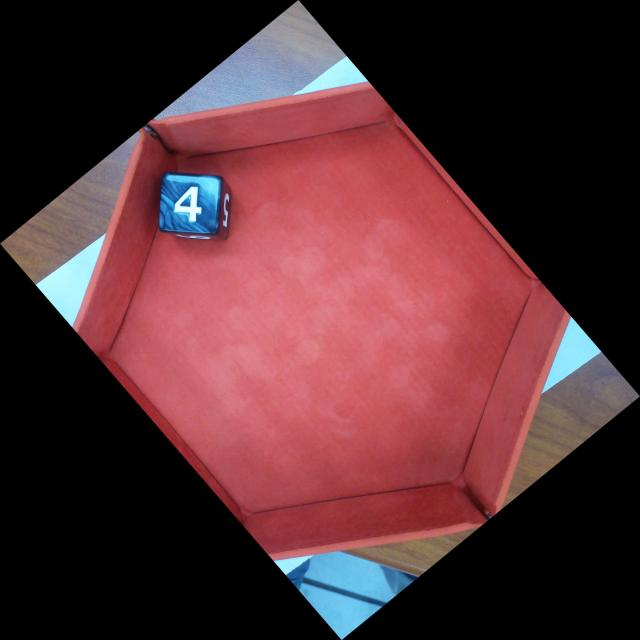dice: (157, 171, 223, 237)
